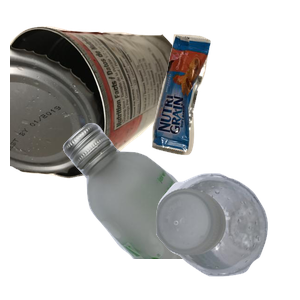glass: (60, 120, 300, 300)
metal: (10, 23, 193, 194)
plastic: (153, 170, 300, 300)
trash: (149, 31, 300, 179)
